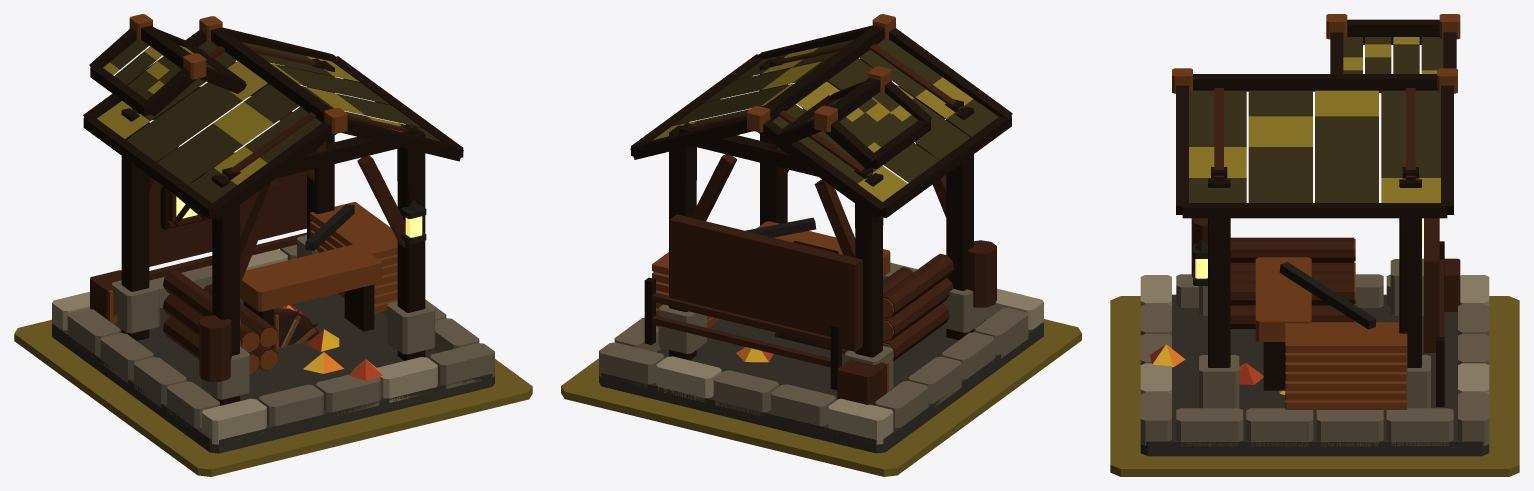
The model's file is sawmill_t6.glb.
3 views of the same model, side by side, from view 1: azimuth 30°, elevation 25°; view 2: azimuth 150°, elevation 25°; view 3: azimuth 270°, elevation 25° (orthographic). The views are drawn at different scales.
Visible parts, largest first — view 1: MMR | sawmill | T06 Architecture.001, MMR | sawmill | Tier 06 Ground.001, MMR | sawmill | T06 Header Frame.001, MMR | sawmill | T06 Autumn Dressing.001, MMR | sawmill | T06 Drive Wheel.001, MMR | sawmill | T06 Saw Blade.001; view 2: MMR | sawmill | T06 Architecture.001, MMR | sawmill | Tier 06 Ground.001, MMR | sawmill | T06 Header Frame.001; view 3: MMR | sawmill | T06 Architecture.001, MMR | sawmill | Tier 06 Ground.001, MMR | sawmill | T06 Header Frame.001, MMR | sawmill | T06 Autumn Dressing.001.
Part boxes in pixels (x1=…): MMR | sawmill | T06 Architecture.001: x1=52, y1=14, x2=494, y2=453; MMR | sawmill | Tier 06 Ground.001: x1=14, y1=319, x2=532, y2=476; MMR | sawmill | T06 Header Frame.001: x1=121, y1=45, x2=425, y2=233; MMR | sawmill | T06 Autumn Dressing.001: x1=281, y1=305, x2=382, y2=380; MMR | sawmill | T06 Drive Wheel.001: x1=273, y1=308, x2=319, y2=349; MMR | sawmill | T06 Saw Blade.001: x1=273, y1=310, x2=317, y2=347; MMR | sawmill | T06 Architecture.001: x1=599, y1=14, x2=1043, y2=453; MMR | sawmill | Tier 06 Ground.001: x1=561, y1=319, x2=1081, y2=476; MMR | sawmill | T06 Header Frame.001: x1=669, y1=43, x2=973, y2=232; MMR | sawmill | T06 Architecture.001: x1=1140, y1=14, x2=1489, y2=456; MMR | sawmill | Tier 06 Ground.001: x1=1110, y1=296, x2=1519, y2=476; MMR | sawmill | T06 Header Frame.001: x1=1208, y1=88, x2=1421, y2=236; MMR | sawmill | T06 Autumn Dressing.001: x1=1149, y1=344, x2=1285, y2=394.
Bounding box in the file's own units: 2.35 × 2.44 × 2.35.
2 materials, 1 textured.
